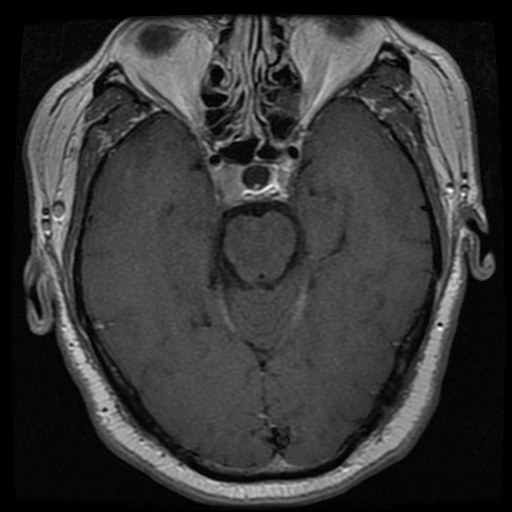pituitary: (217, 163, 294, 203)
